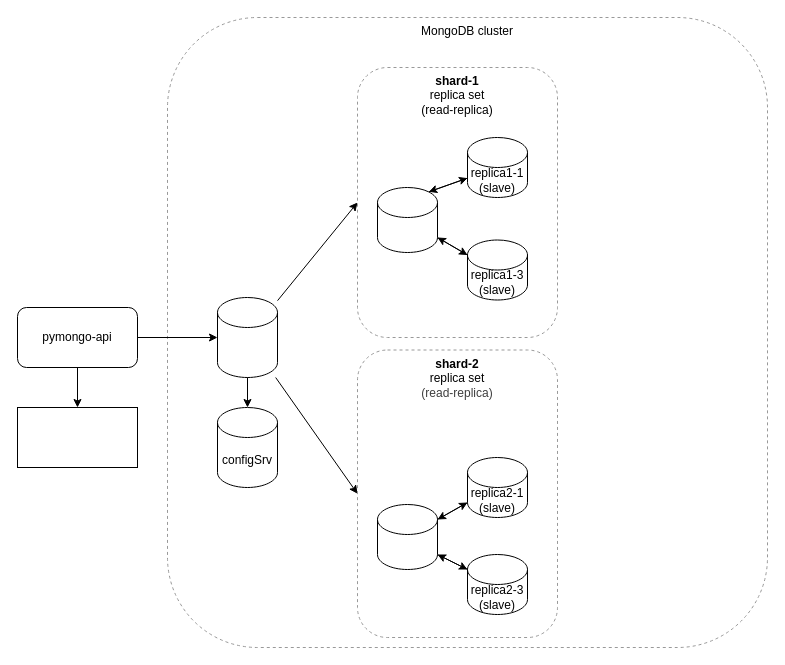
This 785x665 diagram has some shape labels left out. Here are the shapes that lost their labels. From the top down, the box of each, then its label:
(376, 186, 438, 252): replica1 -2 (master)
(216, 296, 278, 378): mongos
(16, 406, 138, 468): Redis (cache)
(376, 504, 438, 570): replica2 -2 (master)
